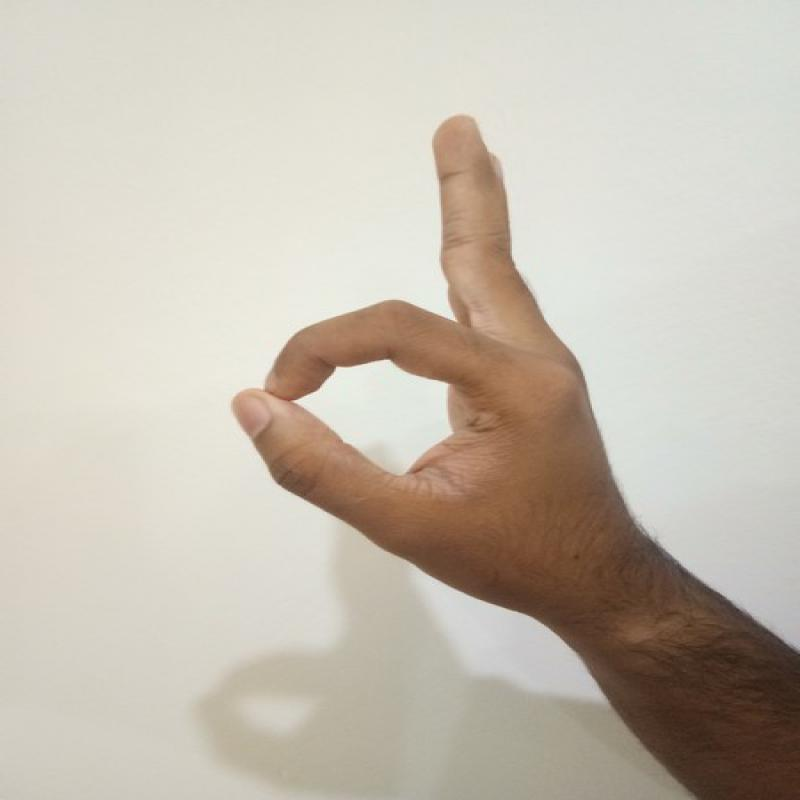Mudraakhyam: (217, 100, 633, 617)
